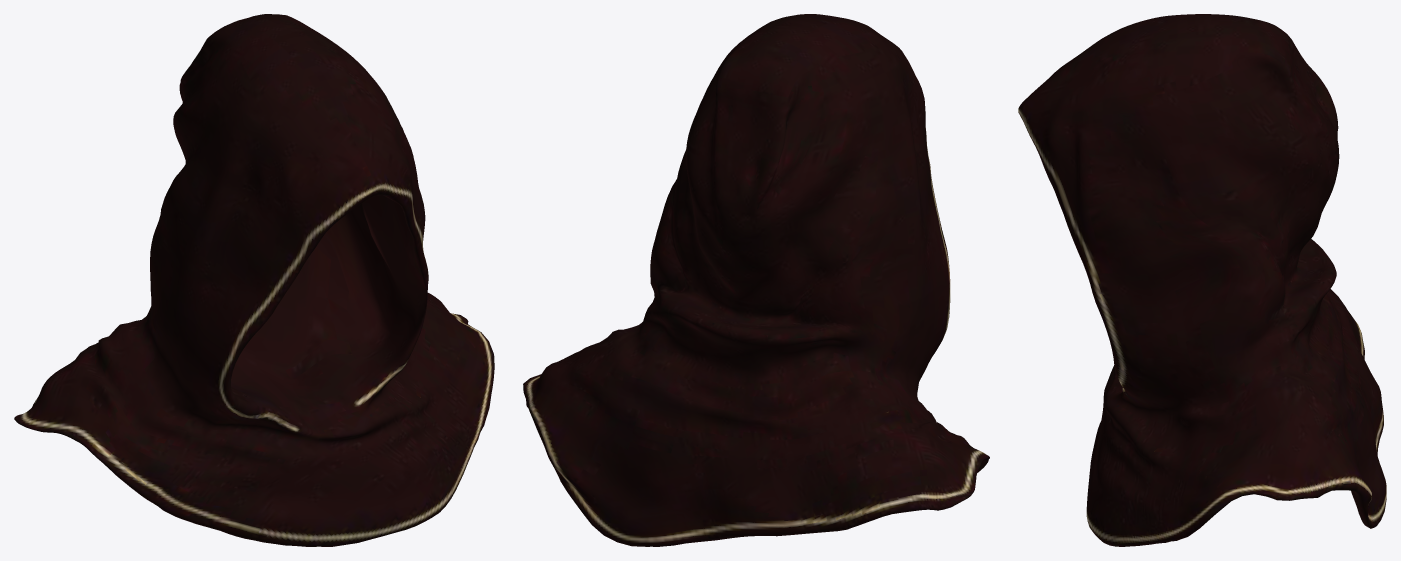
Rendered from capuz-cowl.glb.
The picture shows the model from 3 angles, left to right: view 1: azimuth 30°, elevation 25°; view 2: azimuth 150°, elevation 25°; view 3: azimuth 270°, elevation 25°; orthographic projection. The views are drawn at different scales.
Visible parts, largest first — view 1: capuz-cowl; view 2: capuz-cowl; view 3: capuz-cowl.
Part boxes in pixels (x1,y1,x2,y2): capuz-cowl: [14, 14, 494, 546]; capuz-cowl: [523, 14, 989, 546]; capuz-cowl: [1018, 14, 1386, 546].
Bounding box in the file's own units: 5.82 × 6 × 4.22.
1 material, 1 textured.
